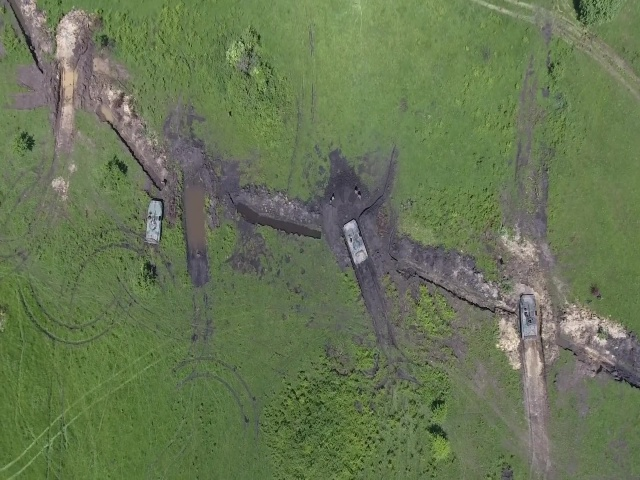vehicle: (341, 219, 368, 266), (518, 291, 538, 340), (144, 198, 165, 244)
